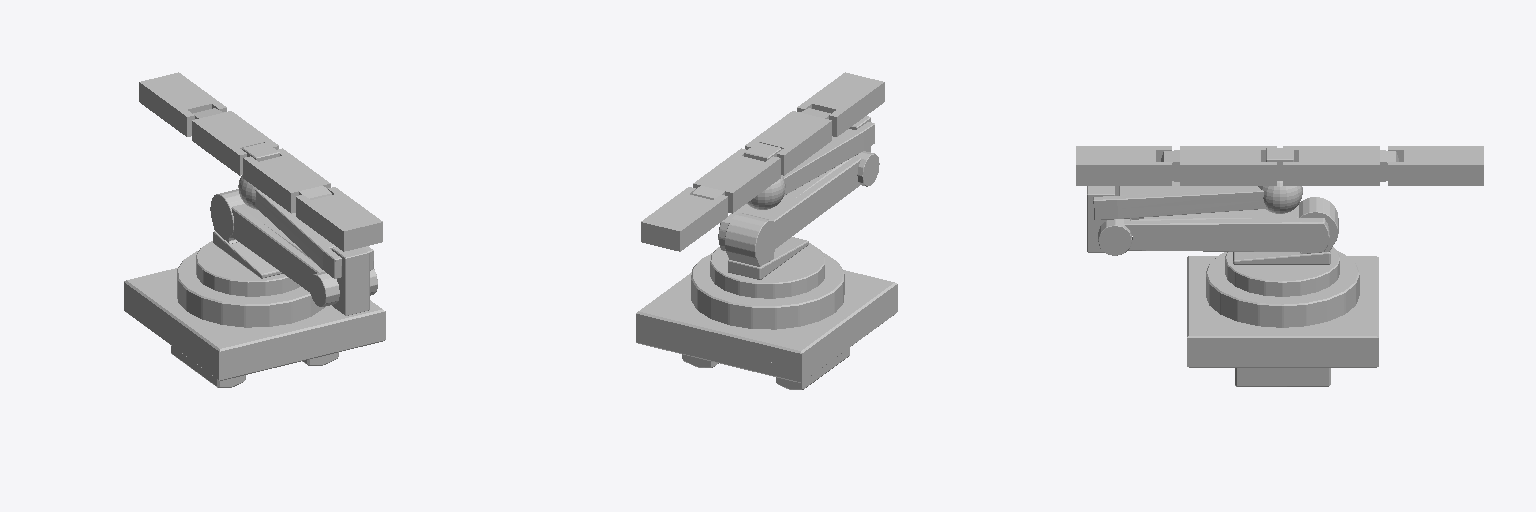
Rendered from RobotArm.obj.
3 renders of one model, left to right at view 1: azimuth 30°, elevation 25°; view 2: azimuth 150°, elevation 25°; view 3: azimuth 270°, elevation 25°, orthographic.
Parts seen in each view (by area): view 1: Robot_Arm Connector_Top_Geo Connector_Bottom_Geo, Geo Robot_Arm Base_01_Proxy_Geo Base_Proxy_Grp, Geo Robot_Arm Root_01_Proxy_Geo Root_Proxy_Grp, Geo Robot_Arm Arm_02_01_Proxy_Geo Arm_02_Proxy_Grp, Robot_Arm Connector_Bottom_Geo, Geo Robot_Arm Arm_01_01_Proxy_Geo Arm_01_Proxy_Grp, Geo Robot_Arm R_Hand_02_01_Proxy_Geo R_Hand_02_Proxy_Grp, Geo Robot_Arm R_Hand_01_01_Proxy_Geo R_Hand_01_Proxy_Grp, Geo Robot_Arm L_Hand_02_01_Proxy_Geo L_Hand_02_Proxy_Grp, L_Hand_01_01_Proxy_Geo L_Hand_01_Proxy_Grp Geo Robot_Arm; view 2: Robot_Arm Connector_Top_Geo Connector_Bottom_Geo, Geo Robot_Arm Base_01_Proxy_Geo Base_Proxy_Grp, Geo Robot_Arm Root_01_Proxy_Geo Root_Proxy_Grp, Geo Robot_Arm Arm_01_01_Proxy_Geo Arm_01_Proxy_Grp, Robot_Arm Connector_Bottom_Geo, Geo Robot_Arm L_Hand_02_01_Proxy_Geo L_Hand_02_Proxy_Grp, L_Hand_01_01_Proxy_Geo L_Hand_01_Proxy_Grp Geo Robot_Arm, Geo Robot_Arm R_Hand_02_01_Proxy_Geo R_Hand_02_Proxy_Grp, Geo Robot_Arm R_Hand_01_01_Proxy_Geo R_Hand_01_Proxy_Grp, Geo Robot_Arm Arm_02_01_Proxy_Geo Arm_02_Proxy_Grp, Geo Robot_Arm Arm_03_01_Proxy_Geo Arm_03_Proxy_Grp; view 3: Robot_Arm Connector_Top_Geo Connector_Bottom_Geo, Geo Robot_Arm Arm_01_01_Proxy_Geo Arm_01_Proxy_Grp, Geo Robot_Arm Root_01_Proxy_Geo Root_Proxy_Grp, Geo Robot_Arm Arm_02_01_Proxy_Geo Arm_02_Proxy_Grp, Geo Robot_Arm Base_01_Proxy_Geo Base_Proxy_Grp, Robot_Arm Connector_Bottom_Geo, L_Hand_01_01_Proxy_Geo L_Hand_01_Proxy_Grp Geo Robot_Arm, Geo Robot_Arm R_Hand_01_01_Proxy_Geo R_Hand_01_Proxy_Grp, Geo Robot_Arm R_Hand_02_01_Proxy_Geo R_Hand_02_Proxy_Grp, Geo Robot_Arm L_Hand_02_01_Proxy_Geo L_Hand_02_Proxy_Grp, Geo Robot_Arm Arm_03_01_Proxy_Geo Arm_03_Proxy_Grp.
Part boxes in pixels (left/top/right/bottom): Robot_Arm Connector_Top_Geo Connector_Bottom_Geo: left=124, top=268, right=385, bottom=367; Geo Robot_Arm Base_01_Proxy_Geo Base_Proxy_Grp: left=196, top=189, right=299, bottom=296; Geo Robot_Arm Root_01_Proxy_Geo Root_Proxy_Grp: left=177, top=251, right=324, bottom=327; Geo Robot_Arm Arm_02_01_Proxy_Geo Arm_02_Proxy_Grp: left=254, top=190, right=373, bottom=315; Robot_Arm Connector_Bottom_Geo: left=124, top=298, right=385, bottom=387; Geo Robot_Arm Arm_01_01_Proxy_Geo Arm_01_Proxy_Grp: left=231, top=204, right=377, bottom=306; Geo Robot_Arm R_Hand_02_01_Proxy_Geo R_Hand_02_Proxy_Grp: left=296, top=187, right=382, bottom=251; Geo Robot_Arm R_Hand_01_01_Proxy_Geo R_Hand_01_Proxy_Grp: left=243, top=148, right=331, bottom=213; Geo Robot_Arm L_Hand_02_01_Proxy_Geo L_Hand_02_Proxy_Grp: left=139, top=72, right=226, bottom=136; L_Hand_01_01_Proxy_Geo L_Hand_01_Proxy_Grp Geo Robot_Arm: left=192, top=108, right=278, bottom=175; Robot_Arm Connector_Top_Geo Connector_Bottom_Geo: left=636, top=270, right=897, bottom=369; Geo Robot_Arm Base_01_Proxy_Geo Base_Proxy_Grp: left=710, top=213, right=824, bottom=298; Geo Robot_Arm Root_01_Proxy_Geo Root_Proxy_Grp: left=691, top=252, right=844, bottom=329; Geo Robot_Arm Arm_01_01_Proxy_Geo Arm_01_Proxy_Grp: left=718, top=151, right=879, bottom=250; Robot_Arm Connector_Bottom_Geo: left=636, top=300, right=897, bottom=389; Geo Robot_Arm L_Hand_02_01_Proxy_Geo L_Hand_02_Proxy_Grp: left=641, top=187, right=727, bottom=251; L_Hand_01_01_Proxy_Geo L_Hand_01_Proxy_Grp Geo Robot_Arm: left=692, top=148, right=780, bottom=213; Geo Robot_Arm R_Hand_02_01_Proxy_Geo R_Hand_02_Proxy_Grp: left=797, top=72, right=884, bottom=136; Geo Robot_Arm R_Hand_01_01_Proxy_Geo R_Hand_01_Proxy_Grp: left=745, top=108, right=831, bottom=175; Geo Robot_Arm Arm_02_01_Proxy_Geo Arm_02_Proxy_Grp: left=782, top=116, right=874, bottom=195; Geo Robot_Arm Arm_03_01_Proxy_Geo Arm_03_Proxy_Grp: left=747, top=175, right=785, bottom=209; Robot_Arm Connector_Top_Geo Connector_Bottom_Geo: left=1187, top=256, right=1378, bottom=353; Geo Robot_Arm Arm_01_01_Proxy_Geo Arm_01_Proxy_Grp: left=1098, top=205, right=1329, bottom=255; Geo Robot_Arm Root_01_Proxy_Geo Root_Proxy_Grp: left=1206, top=251, right=1359, bottom=327; Geo Robot_Arm Arm_02_01_Proxy_Geo Arm_02_Proxy_Grp: left=1087, top=181, right=1267, bottom=252; Geo Robot_Arm Base_01_Proxy_Geo Base_Proxy_Grp: left=1225, top=197, right=1339, bottom=296; Robot_Arm Connector_Bottom_Geo: left=1187, top=354, right=1378, bottom=386; L_Hand_01_01_Proxy_Geo L_Hand_01_Proxy_Grp Geo Robot_Arm: left=1283, top=146, right=1398, bottom=185; Geo Robot_Arm R_Hand_01_01_Proxy_Geo R_Hand_01_Proxy_Grp: left=1161, top=146, right=1276, bottom=185; Geo Robot_Arm R_Hand_02_01_Proxy_Geo R_Hand_02_Proxy_Grp: left=1076, top=146, right=1171, bottom=185; Geo Robot_Arm L_Hand_02_01_Proxy_Geo L_Hand_02_Proxy_Grp: left=1388, top=146, right=1483, bottom=185; Geo Robot_Arm Arm_03_01_Proxy_Geo Arm_03_Proxy_Grp: left=1258, top=181, right=1302, bottom=213.
Size of the model in its own units: 90.98 by 110 by 194.